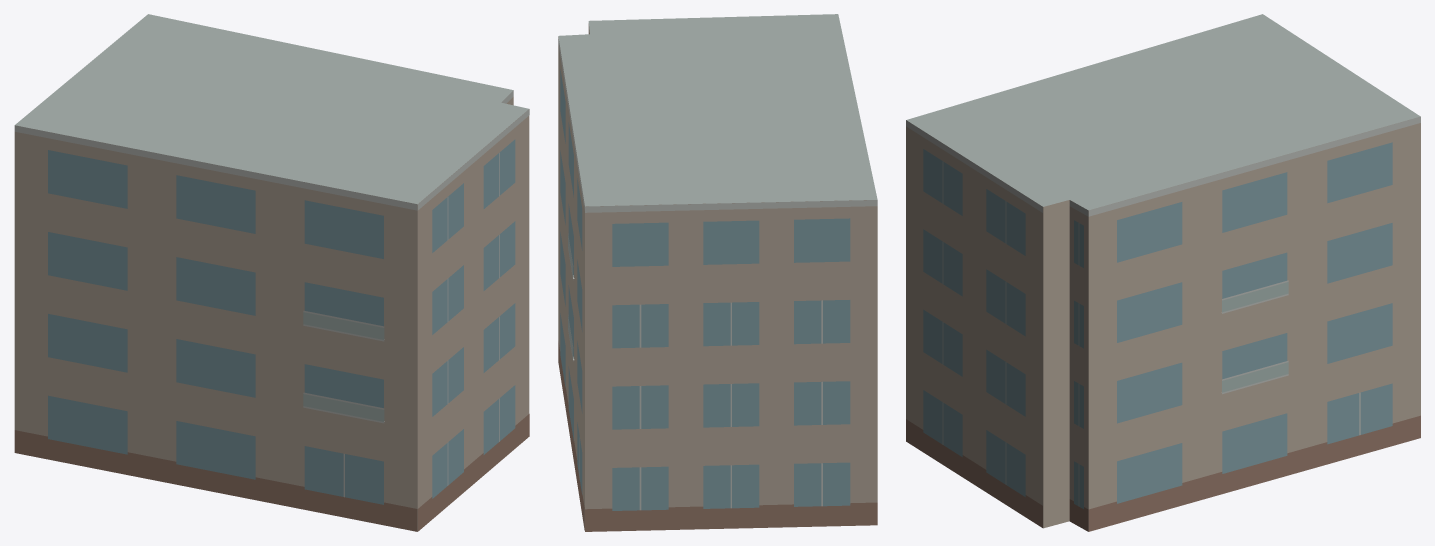
Rendered from survey-upis-32637610.glb.
3 views of the same model, side by side, from view 1: azimuth 30°, elevation 25°; view 2: azimuth 150°, elevation 25°; view 3: azimuth 270°, elevation 25° (orthographic).
Visible parts, largest first — view 1: survey-upis-32637610.tmp; view 2: survey-upis-32637610.tmp; view 3: survey-upis-32637610.tmp.
Part boxes in pixels (box(x1,y1,x2,y2)): survey-upis-32637610.tmp: box(14, 14, 529, 531); survey-upis-32637610.tmp: box(558, 14, 877, 531); survey-upis-32637610.tmp: box(906, 14, 1420, 531).
Size of the model in its own units: 16.26 by 12.4 by 18.
